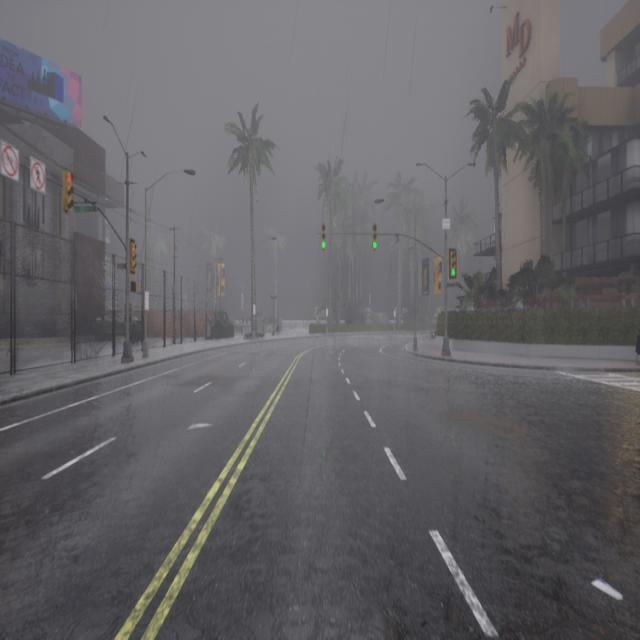bien_chi_dan: (63, 168, 74, 212), (449, 248, 457, 280), (130, 241, 137, 274), (372, 222, 378, 250), (321, 223, 326, 251), (66, 173, 73, 184), (372, 241, 378, 249), (451, 268, 456, 276), (321, 241, 326, 249), (132, 246, 136, 252)
